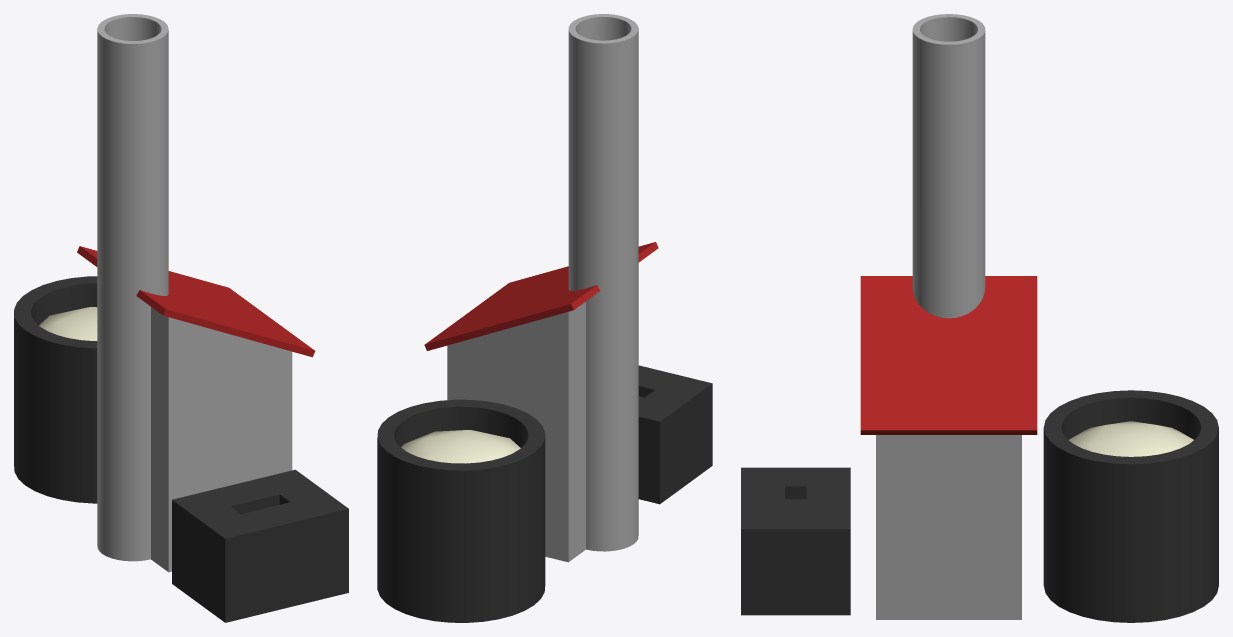
Rendered from BSteelFactory.obj.
3 renders of one model, left to right at view 1: azimuth 30°, elevation 25°; view 2: azimuth 150°, elevation 25°; view 3: azimuth 270°, elevation 25°, orthographic. The views are drawn at different scales.
Parts seen in each view (by area): view 1: BSteelFactory; view 2: BSteelFactory; view 3: BSteelFactory.
Part boxes in pixels (x1,y1,x2,y2): BSteelFactory: [14, 14, 348, 622]; BSteelFactory: [377, 14, 712, 622]; BSteelFactory: [741, 14, 1218, 622].
Size of the model in its own units: 2.75 by 8 by 6.55.
